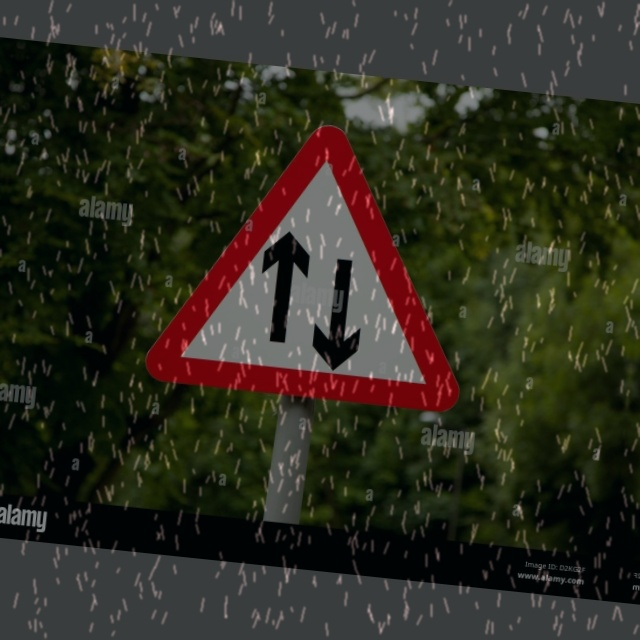Mandatory_Two_Way_Traffic: (141, 112, 485, 413)
